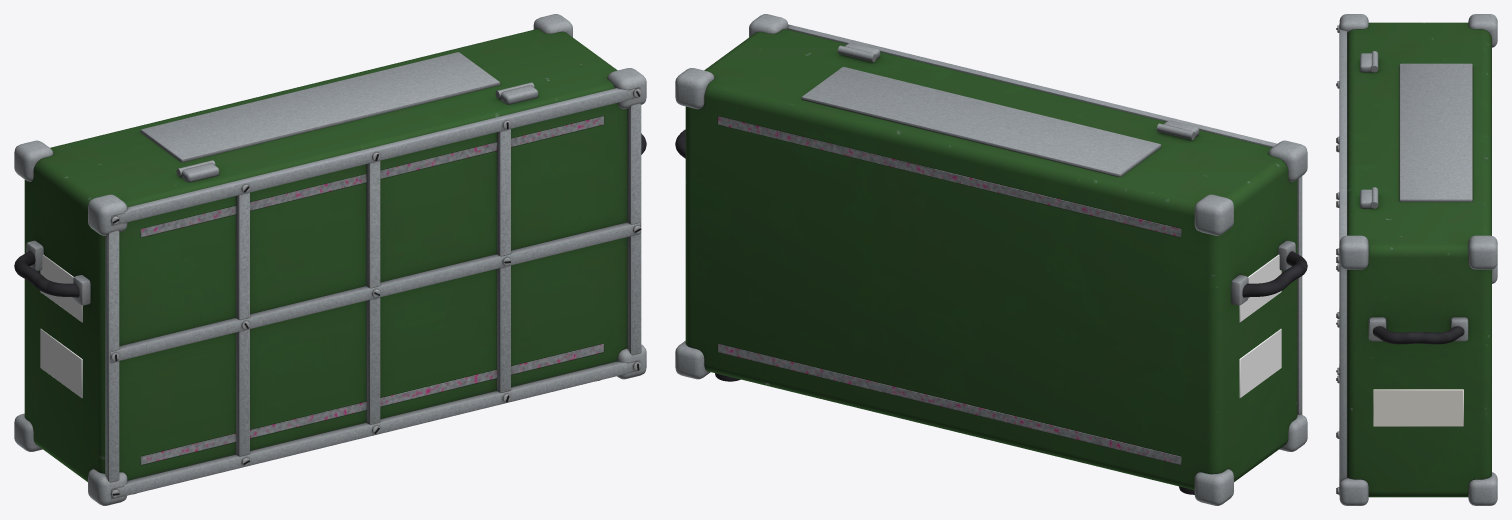
Rendered from casing.glb.
3 renders of one model, left to right at view 1: azimuth 30°, elevation 25°; view 2: azimuth 150°, elevation 25°; view 3: azimuth 270°, elevation 25°, orthographic. The views are drawn at different scales.
Parts seen in each view (by area): view 1: casing, stiker1, stiker0; view 2: casing, stiker1, stiker0; view 3: casing, serial.
Boxes of the visible parts, left/top/right/bottom form: casing: left=14, top=14, right=646, bottom=505; stiker1: left=40, top=329, right=82, bottom=398; stiker0: left=40, top=254, right=82, bottom=322; casing: left=675, top=14, right=1307, bottom=505; stiker1: left=1239, top=329, right=1281, bottom=398; stiker0: left=1239, top=254, right=1281, bottom=322; casing: left=1336, top=14, right=1497, bottom=505; serial: left=1373, top=389, right=1463, bottom=426.
Bounding box in the file's own units: 4.19 × 2 × 1.1.
4 materials, 1 textured.
